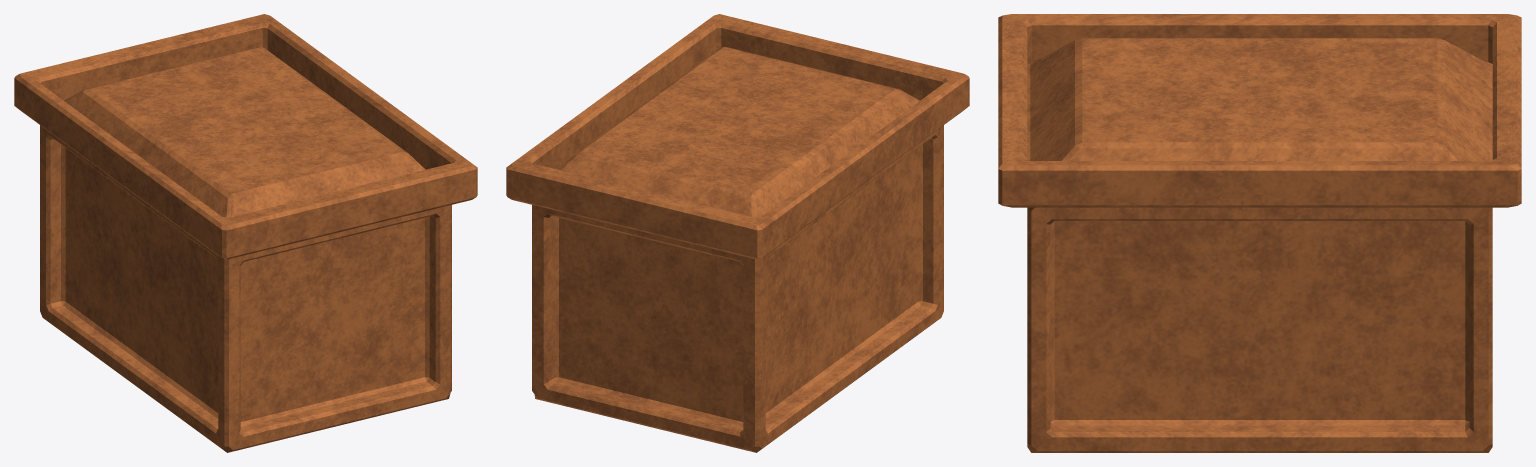
Rendered from Key-Box.fbx.
3 views of the same model, side by side, from view 1: azimuth 30°, elevation 25°; view 2: azimuth 150°, elevation 25°; view 3: azimuth 270°, elevation 25° (orthographic). The views are drawn at different scales.
Visible parts, largest first — view 1: Cube; view 2: Cube; view 3: Cube.
Part boxes in pixels (x1,y1,x2,y2): Cube: (14,14,477,452); Cube: (506,14,969,452); Cube: (998,14,1521,452).
Size of the model in its own units: 78.7 by 70.2 by 112.
